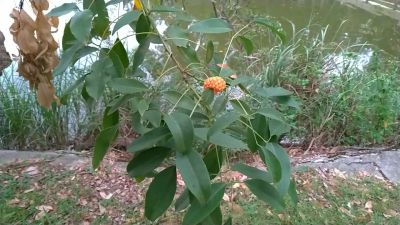eggs: (200, 69, 230, 95)
